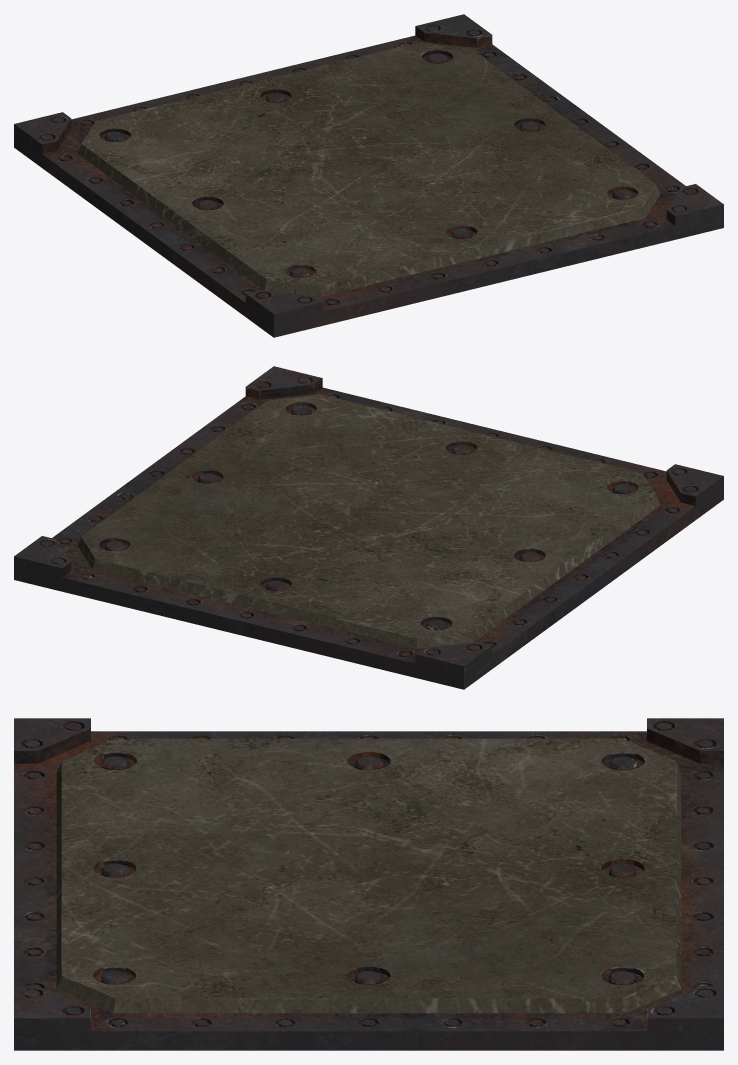
3 views of the same model, one above another, from view 1: azimuth 30°, elevation 25°; view 2: azimuth 150°, elevation 25°; view 3: azimuth 270°, elevation 25° (orthographic). The views are drawn at different scales.
Parts seen in each view (by area): view 1: floorTile; view 2: floorTile; view 3: floorTile.
Part boxes in pixels (<box>): floorTile: <box>14,14,723,337</box>; floorTile: <box>14,366,723,689</box>; floorTile: <box>14,718,723,1050</box>.
Bounding box in the file's own units: 5000 × 250 × 5000.
1 material, 1 textured.
